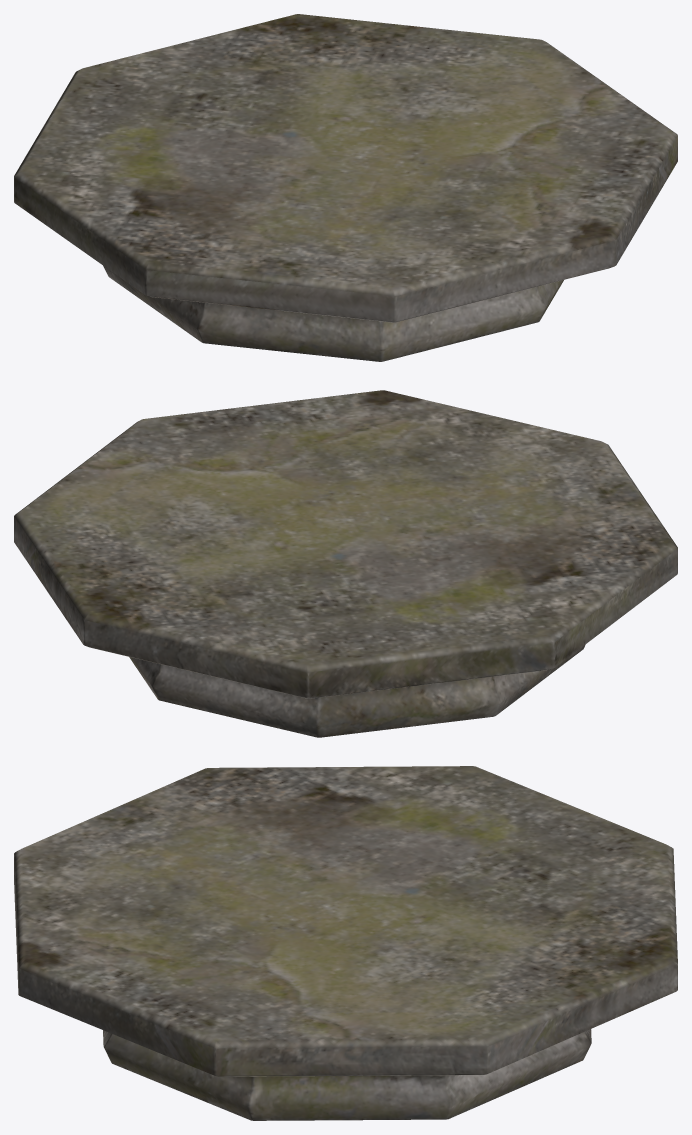
Rendered from sm_ChapelColumnTop_01_01.fbx.
3 views of the same model, one above another, from view 1: azimuth 30°, elevation 25°; view 2: azimuth 150°, elevation 25°; view 3: azimuth 270°, elevation 25° (orthographic). The views are drawn at different scales.
Parts seen in each view (by area): view 1: sm_ChapelColumnTop_01_01_LOD0; view 2: sm_ChapelColumnTop_01_01_LOD0; view 3: sm_ChapelColumnTop_01_01_LOD0.
Boxes of the visible parts, <box> form: sm_ChapelColumnTop_01_01_LOD0: <box>14,14,677,361</box>; sm_ChapelColumnTop_01_01_LOD0: <box>14,390,677,737</box>; sm_ChapelColumnTop_01_01_LOD0: <box>14,766,677,1120</box>.
Size of the model in its own units: 117 by 117 by 22.67.
